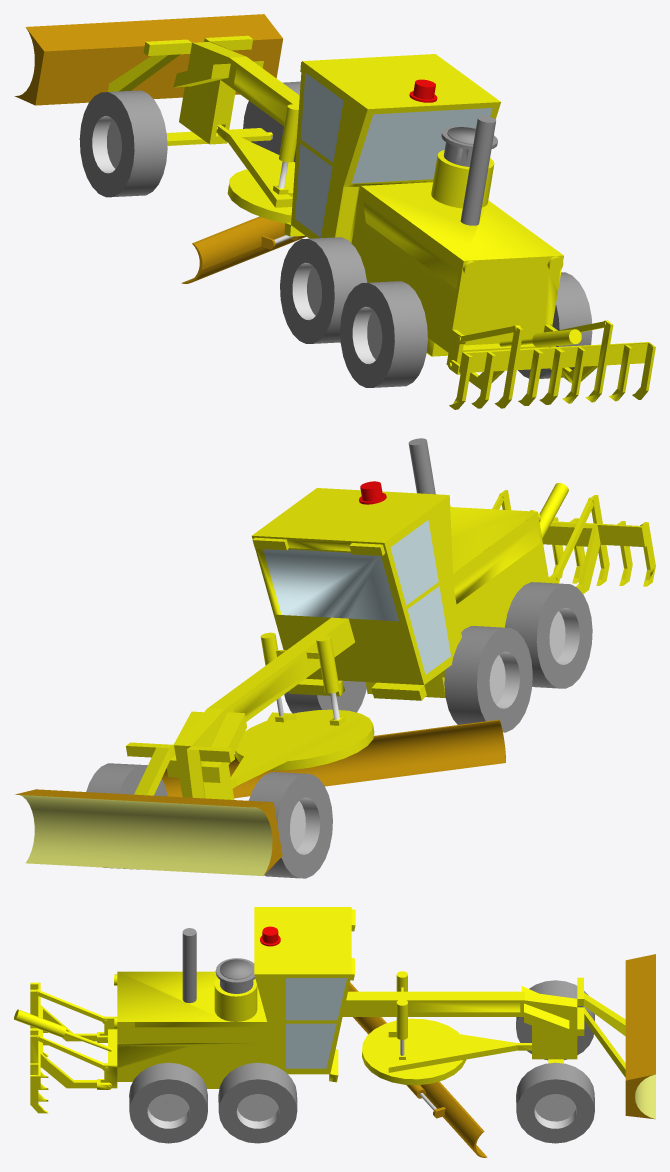
Rendered from Grader_B.fbx.
The picture shows the model from 3 angles, top to bottom: view 1: azimuth 30°, elevation 25°; view 2: azimuth 150°, elevation 25°; view 3: azimuth 270°, elevation 25°; orthographic projection. The views are drawn at different scales.
Visible parts, largest first — view 1: Grader_B; view 2: Grader_B; view 3: Grader_B.
Boxes of the visible parts, x1,y1,x2,y2 form: Grader_B: (14, 14, 655, 409); Grader_B: (15, 438, 655, 878); Grader_B: (14, 907, 655, 1157).
Size of the model in its own units: 427 by 337 by 1019.
